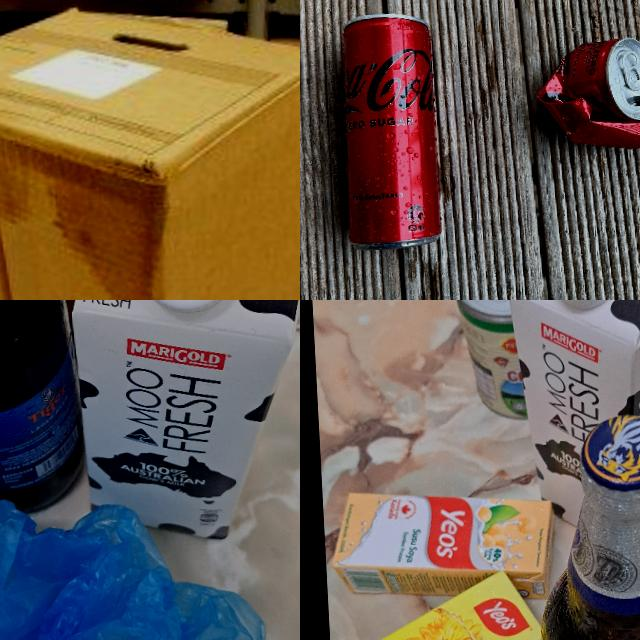aba de lata: (622, 50, 640, 92)
caixinha: (60, 300, 300, 553), (506, 300, 640, 531), (328, 481, 562, 608), (327, 568, 556, 640)
garrafa de vidro: (532, 410, 640, 640)
lata: (337, 9, 444, 252), (534, 34, 640, 153), (451, 300, 538, 422)
papelão: (0, 0, 300, 300)
sacola plástica: (0, 473, 287, 640)
